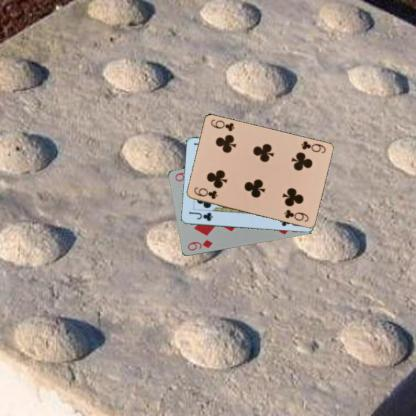6c: (298, 139, 327, 154), (192, 184, 219, 200)
9d: (185, 237, 214, 252)
Jc: (186, 209, 214, 223)
